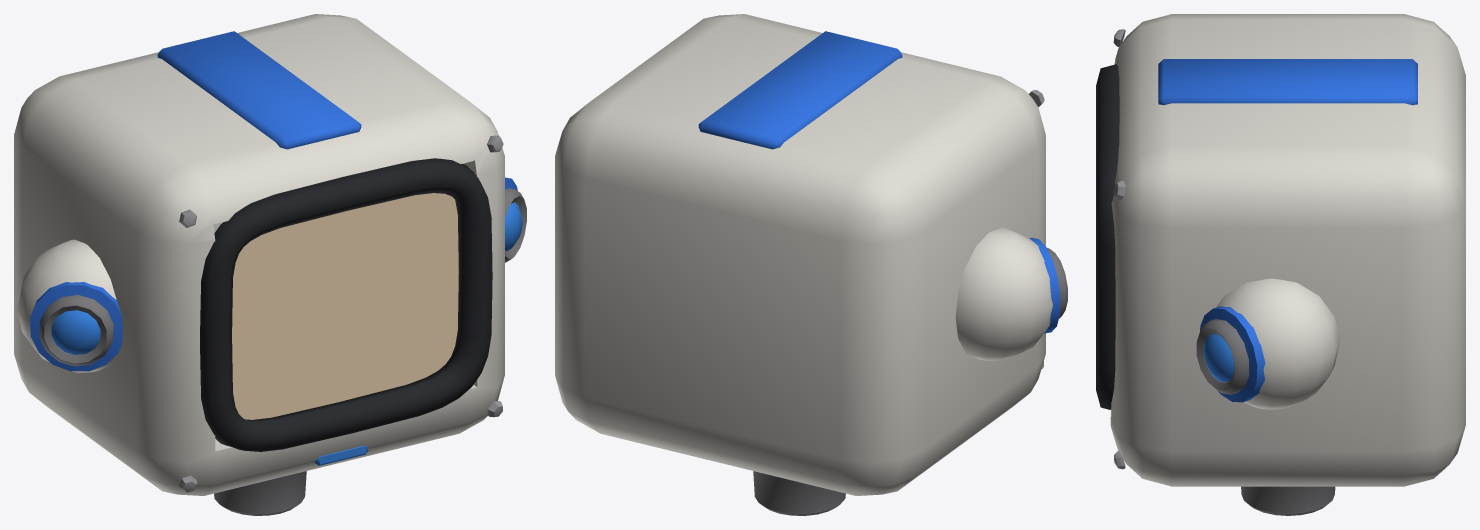
File: Kit_Head_ProVisor.glb
3 renders of one model, left to right at view 1: azimuth 30°, elevation 25°; view 2: azimuth 150°, elevation 25°; view 3: azimuth 270°, elevation 25°, orthographic.
Visible parts, largest first — view 1: Kit_Head_ProVisor, FacePlate; view 2: Kit_Head_ProVisor; view 3: Kit_Head_ProVisor.
Boxes of the visible parts, bbox=[...] form: Kit_Head_ProVisor: bbox=[14, 14, 526, 515]; FacePlate: bbox=[232, 193, 458, 419]; Kit_Head_ProVisor: bbox=[555, 14, 1067, 515]; Kit_Head_ProVisor: bbox=[1096, 14, 1465, 515].
Size of the model in its own units: 0.421 by 0.34 by 0.2706.
